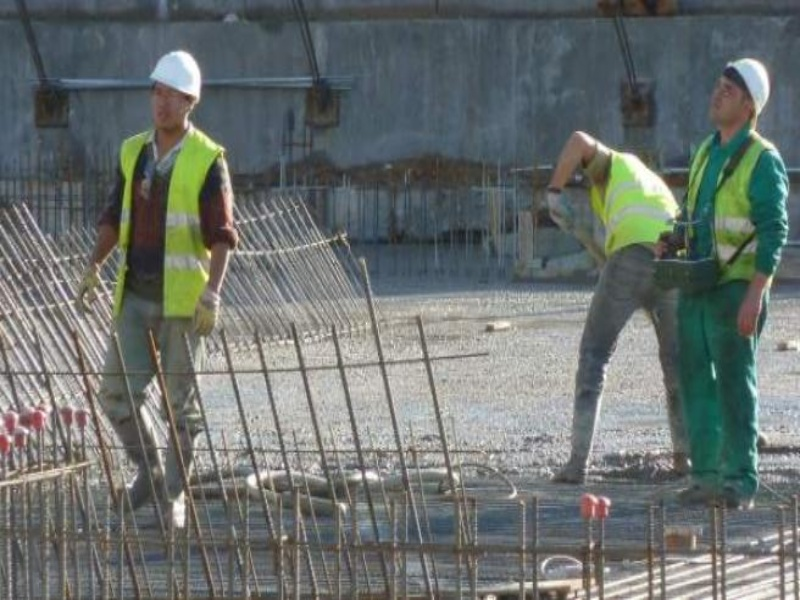casco: (147, 48, 206, 110), (723, 55, 773, 123)
